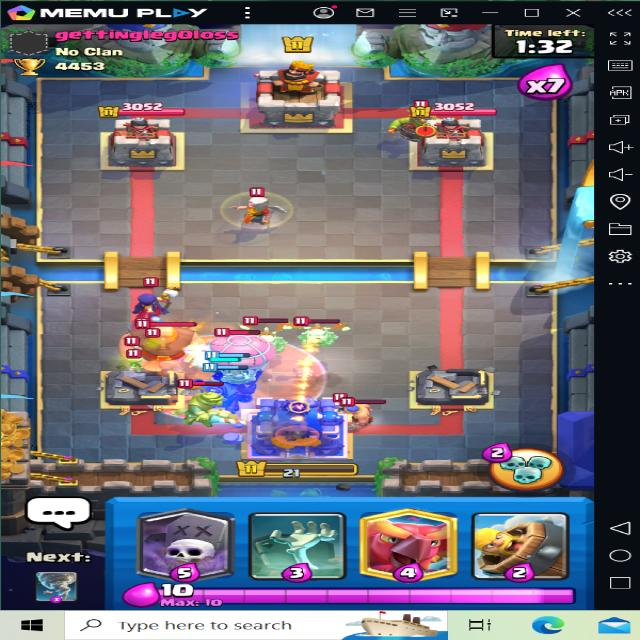Balloon: (204, 323, 272, 387)
Barbarian: (337, 393, 382, 424)
Battlehealer: (226, 182, 296, 231)
Giant: (125, 319, 213, 370)
Goblindemolisher: (384, 97, 469, 144)
Prince: (184, 377, 237, 428)
Skeleton: (120, 349, 147, 368)
Skeletondragon: (232, 316, 291, 351), (289, 316, 346, 352)
witch: (135, 285, 173, 324)
